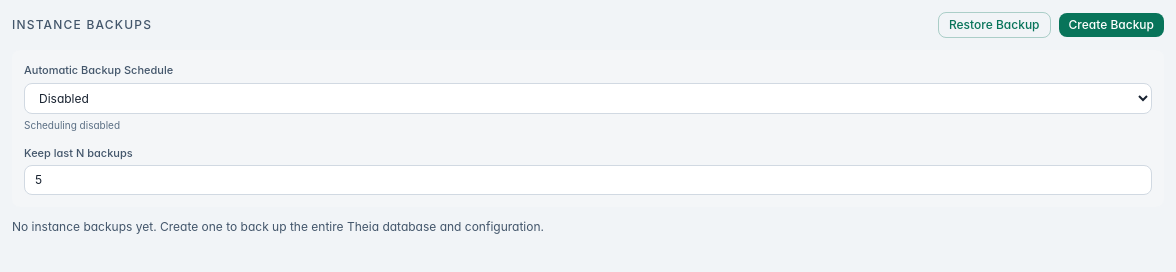
Test case: InstanceBackupManager — retention count validated (1-365) › shows error when retention count is set to 0
Replace the text in the number field showing "5" with "0": point(588, 180) [24,165,1152,195]
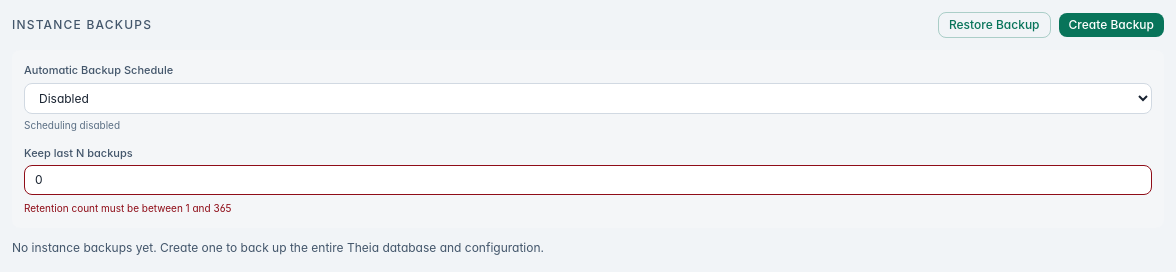
Now the text "Retention count must be between 1 and 365" is shown, box [24,202,231,214]
